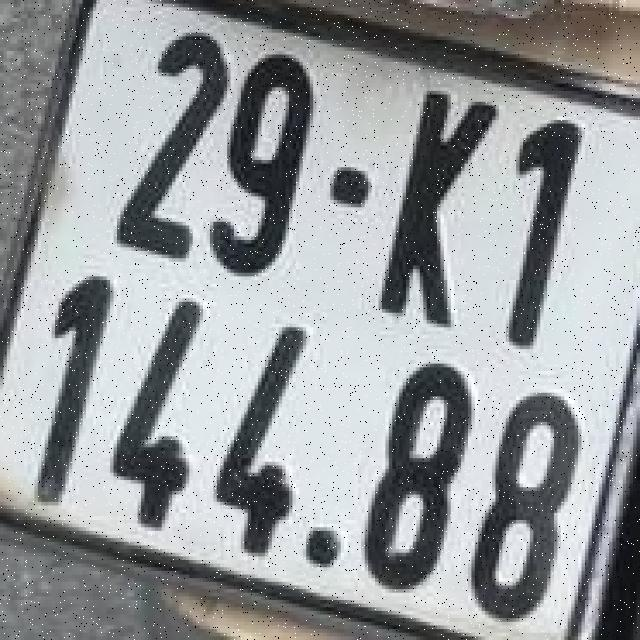1: (495, 100, 592, 351), (24, 271, 114, 511)
2: (105, 23, 222, 264)
4: (107, 289, 203, 536), (210, 318, 310, 555)
8: (468, 386, 578, 626), (360, 356, 470, 593)
9: (206, 48, 320, 276)
K: (377, 75, 490, 329)
